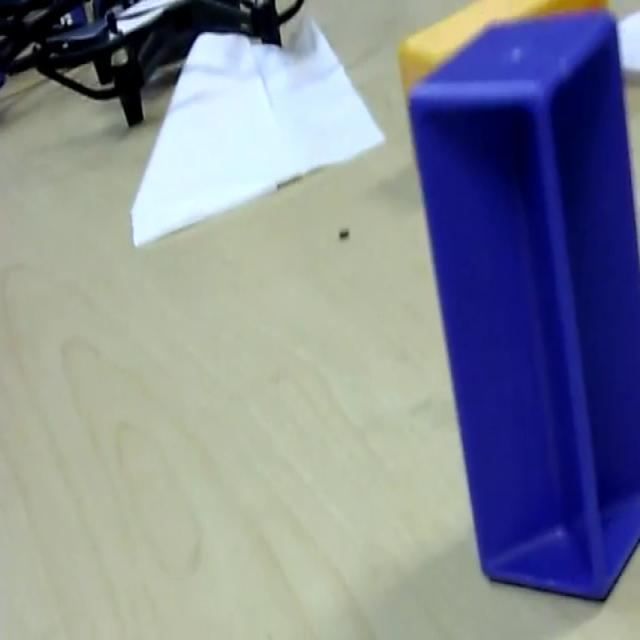blue_block: (406, 7, 638, 600)
yellow_block: (397, 0, 610, 100)
